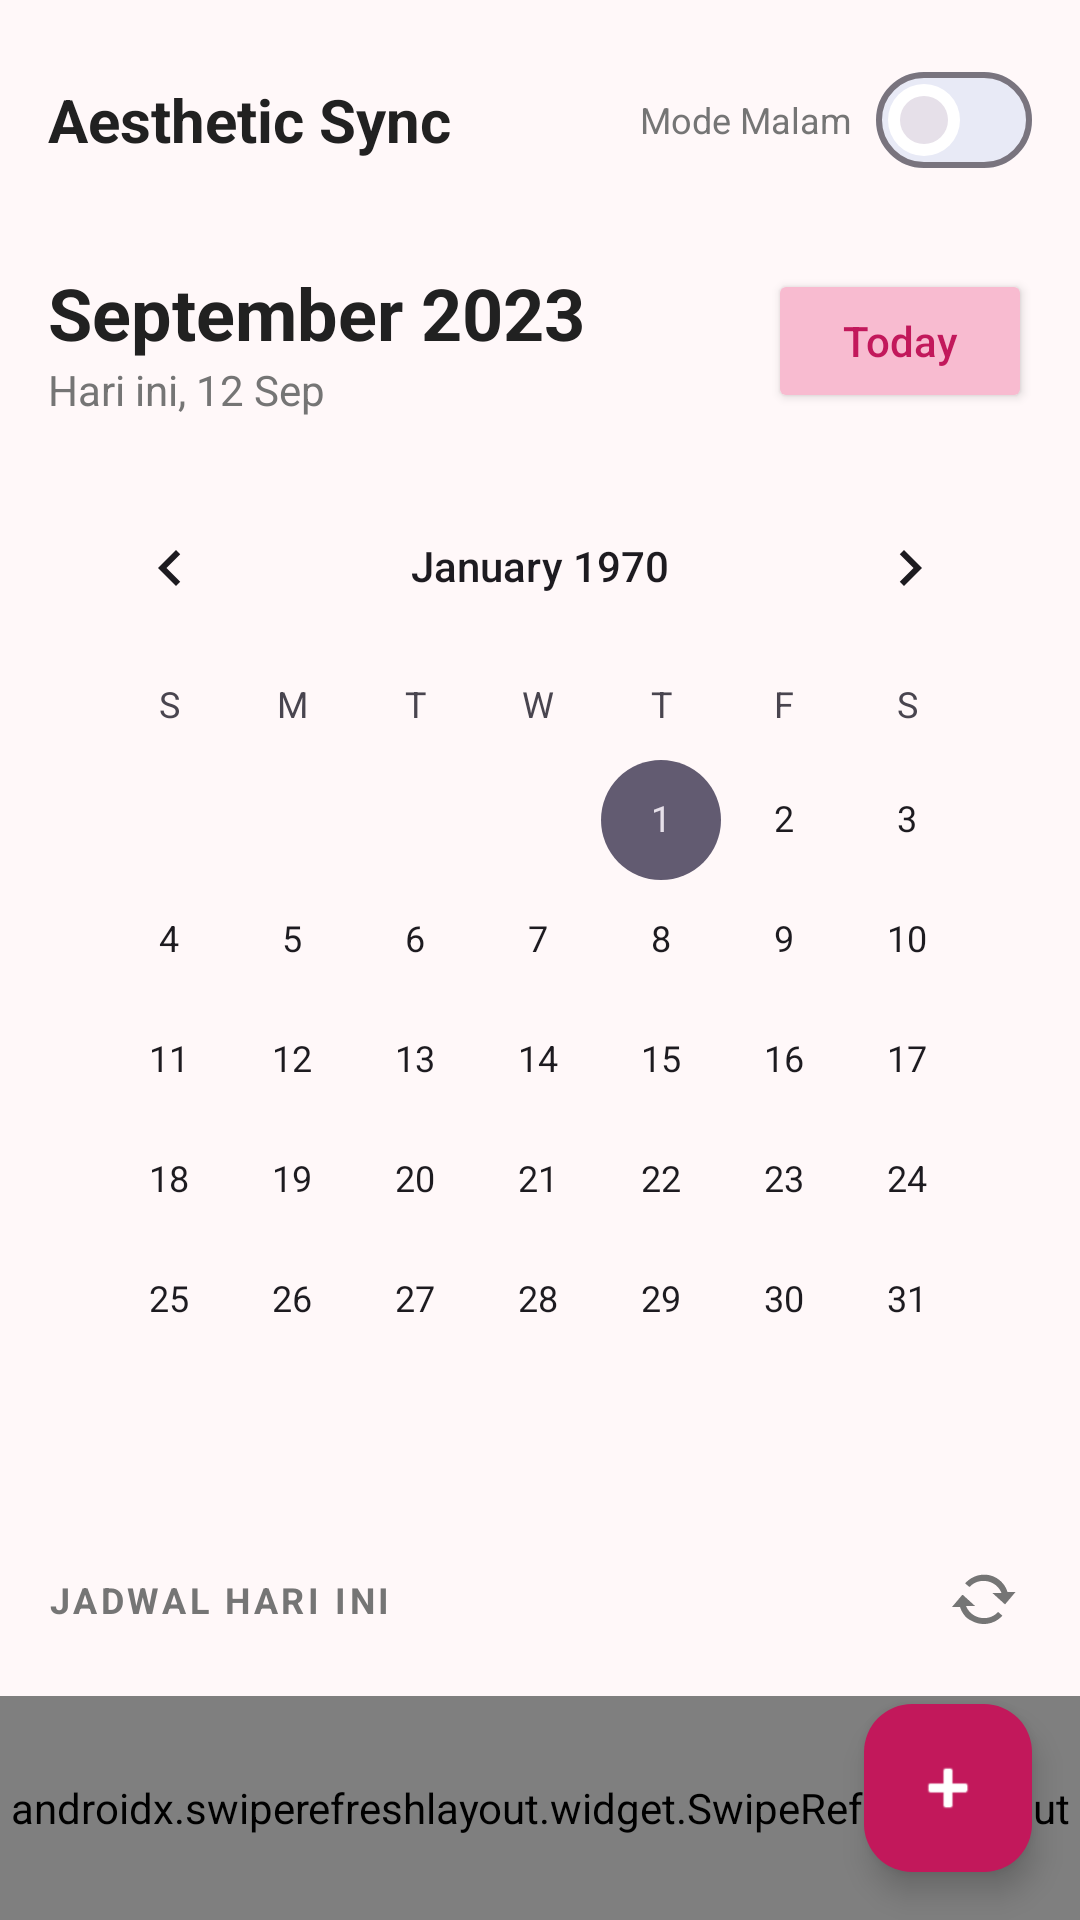

Locate icon controls on the screen. Image size 1080x1920, boxes as (x1, y1, x2, y2).
add: (864, 1704, 1032, 1872)
Refresh Calendar: (952, 1574, 1016, 1624)
